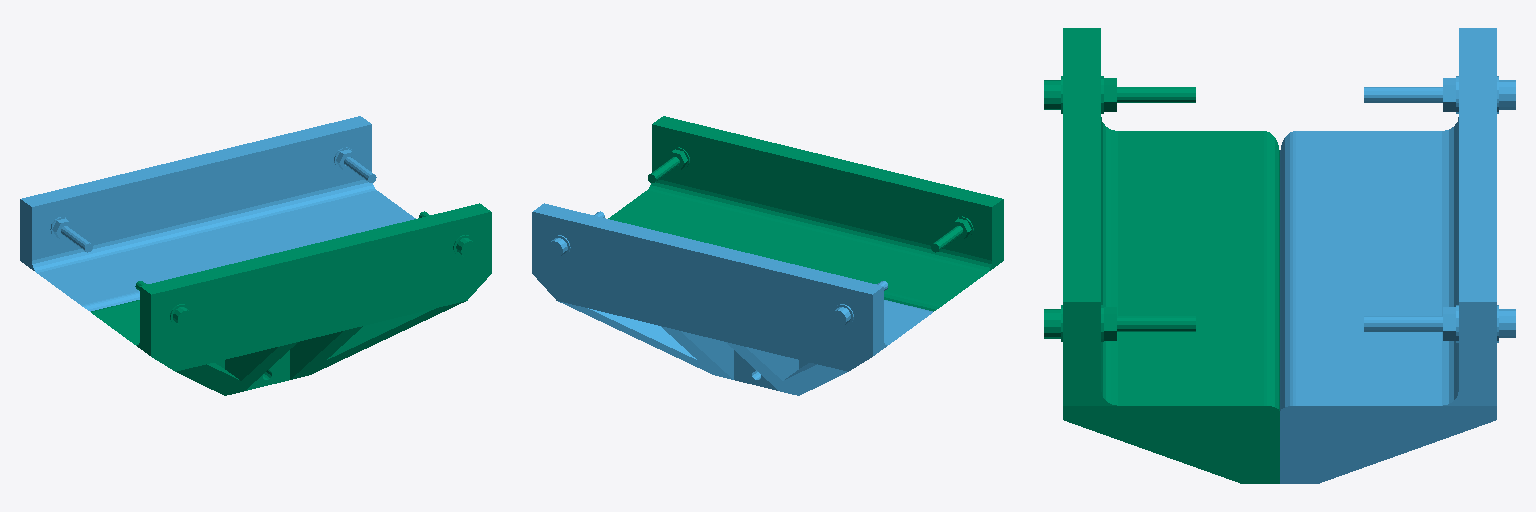
robot.urdf — gripper_placer:
<?xml version="1.0" ?>
<!-- =================================================================================== -->
<!-- |    This document was autogenerated by xacro from gripper_placer.urdf.xacro      | -->
<!-- |    EDITING THIS FILE BY HAND IS NOT RECOMMENDED                                 | -->
<!-- =================================================================================== -->
<robot name="gripper_placer" xmlns:xacro="http://ros.org/wiki/xacro">
  <!-- Default is 0.01 -->
  <!-- 0.0393701 -->
  <!-- Phantom link for center of gripper -->
  <link name="gripper_center">
    <inertial>
      <mass value="0.01"/>
      <inertia ixx="0.0001" ixy="0.0" ixz="0.0" iyy="0.0001" iyz="0.0" izz="0.0001"/>
    </inertial>
  </link>
  <!-- One side of gripper -->
  <link name="side_p">
    <visual>
      <origin rpy="0 0 0" xyz="0 0 0.11485"/>
      <geometry>
        <mesh filename="package://hydra/models/gripper_placer/meshes/gripper_pad_v2.stl" scale="0.0254 0.0254 0.0254"/>
      </geometry>
    </visual>
    <collision>
      <origin rpy="0 0 0" xyz="0 0 0.11485"/>
      <geometry>
        <mesh filename="package://hydra/models/gripper_placer/meshes/gripper_pad_v2.stl" scale="0.0254 0.0254 0.0254"/>
      </geometry>
    </collision>
    <inertial>
      <mass value="0.001"/>
      <inertia ixx="0.01" ixy="0.0" ixz="0.0" iyy="0.02" iyz="0.0" izz="0.02"/>
    </inertial>
  </link>
  <!-- Second side of gripper -->
  <link name="side_d">
    <visual>
      <origin rpy="0 0 3.14159265359" xyz="0 0 0.11485"/>
      <!--origin xyz="0 0.04185 0" rpy="0 0 ${pi}" /-->
      <geometry>
        <mesh filename="package://hydra/models/gripper_placer/meshes/gripper_pad_v2.stl" scale="0.0254 0.0254 0.0254"/>
      </geometry>
    </visual>
    <collision>
      <origin rpy="0 0 3.14159265359" xyz="0 0 0.11485"/>
      <geometry>
        <mesh filename="package://hydra/models/gripper_placer/meshes/gripper_pad_v2.stl" scale="0.0254 0.0254 0.0254"/>
      </geometry>
    </collision>
    <inertial>
      <mass value="0.001"/>
      <inertia ixx="0.01" ixy="0.0" ixz="0.0" iyy="0.02" iyz="0.0" izz="0.02"/>
    </inertial>
  </link>
  <!-- Prismatic joint -->
  <joint name="gripper_joint_p" type="prismatic">
    <origin rpy="0 0 0" xyz="0 0 0"/>
    <axis xyz="0 1 0"/>
    <parent link="gripper_center"/>
    <child link="side_p"/>
    <limit effort="5000" lower="-100" upper="100" velocity="0.5"/>
  </joint>
  <joint name="gripper_joint_d" type="prismatic">
    <origin rpy="0 0 0" xyz="0 0 0"/>
    <axis xyz="0 1 0"/>
    <parent link="gripper_center"/>
    <child link="side_d"/>
    <limit effort="5000" lower="-100" upper="100" velocity="0.5"/>
  </joint>
  <!-- Prismatic joint -->
  <!--joint name="gripper_joint_p" type="fixed">
    <origin xyz="0 0 0" rpy="0 0 0" />
    <parent link="gripper_center" />
    <child link="side_p" />
  </joint>
  
  <joint name="gripper_joint_d" type="fixed">
    <origin xyz="0 0 0" rpy="0 0 0" />
    <parent link="gripper_center" />
    <child link="side_d" />
    </joint-->
  <transmission name="gripper_joint_transmission_p">
    <type>transmission_interface/SimpleTransmission</type>
    <joint name="gripper_joint_p">
      <hardwareInterface>hardware_interface/PositionJointInterface</hardwareInterface>
    </joint>
    <actuator name="gripper_joint_motor_p">
      <hardwareInterface>hardware_interface/PositionJointInterface</hardwareInterface>
      <mechanicalReduction>1</mechanicalReduction>
    </actuator>
  </transmission>
  <transmission name="gripper_joint_transmission_d">
    <type>transmission_interface/SimpleTransmission</type>
    <joint name="gripper_joint_d">
      <hardwareInterface>hardware_interface/PositionJointInterface</hardwareInterface>
    </joint>
    <actuator name="gripper_joint_motor_d">
      <hardwareInterface>hardware_interface/PositionJointInterface</hardwareInterface>
      <mechanicalReduction>1</mechanicalReduction>
    </actuator>
  </transmission>
  <!-- Gazebo tag for hopefully changing physics engine properties to work -->
  <gazebo>
    <maxVel>0</maxVel>
    <minDepth>0.001</minDepth>
  </gazebo>
</robot>

--- Render facts (derived) ---
Views: 3 orthographic renders of the robot side by side, from view 1: azimuth 30°, elevation 25°; view 2: azimuth 150°, elevation 25°; view 3: azimuth 270°, elevation 25°.
Robot: gripper_placer — 3 links, 2 joints (2 prismatic); root link gripper_center; default pose: every joint at zero.
Links seen in each view (by area): view 1: side_p, side_d; view 2: side_d, side_p; view 3: side_d, side_p.
Boxes of the visible links, x1=… form: side_p: x1=20, y1=116, x2=415, y2=311; side_d: x1=91, y1=203, x2=491, y2=395; side_d: x1=608, y1=116, x2=1003, y2=311; side_p: x1=532, y1=203, x2=932, y2=395; side_d: x1=1044, y1=28, x2=1279, y2=483; side_p: x1=1280, y1=28, x2=1515, y2=483.
Bounding box of the posed robot: 0.12 × 0.087 × 0.058 m (x, y, z).
2 mesh visuals loaded from 1 distinct referenced files (1 binary STL).